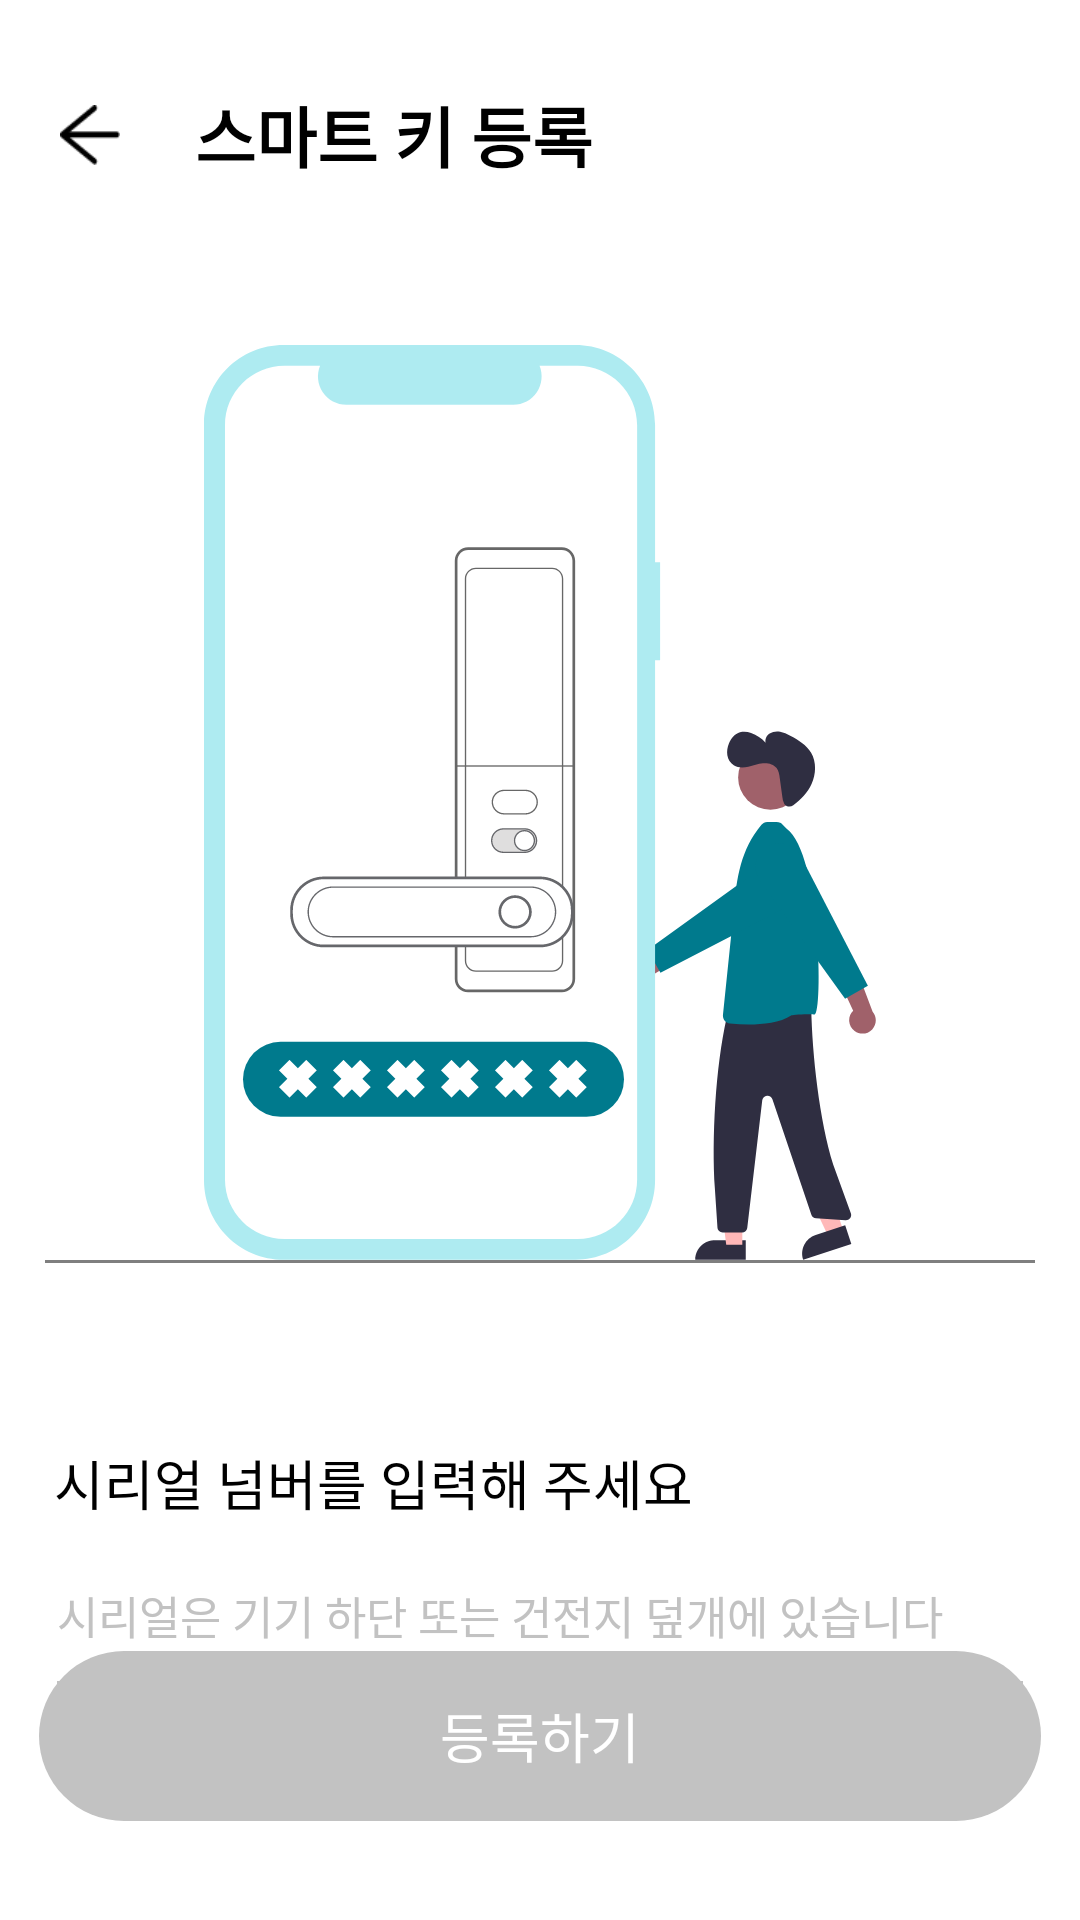

Where to tap for icons on this 1080×1920 app screen, as point (x, y):
back: point (90, 135)
